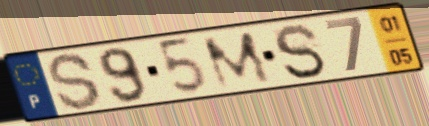5: (153, 33, 210, 98)
7: (321, 14, 368, 75)
9: (94, 44, 151, 105)
M: (198, 29, 275, 92)
S: (45, 51, 105, 112), (271, 22, 329, 82)
